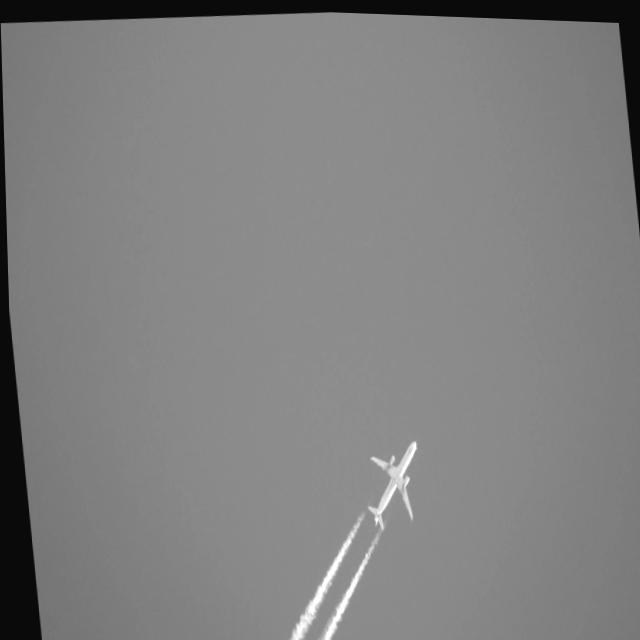aeroplane: (353, 424, 422, 530)
